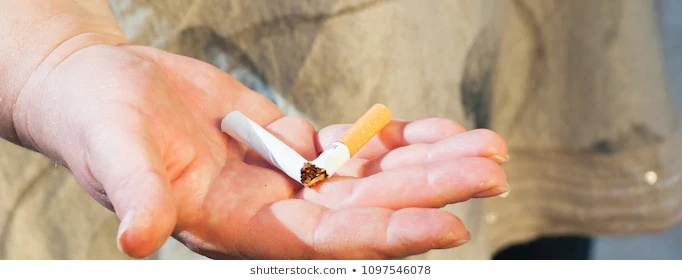sigaretta: (224, 88, 396, 181)
